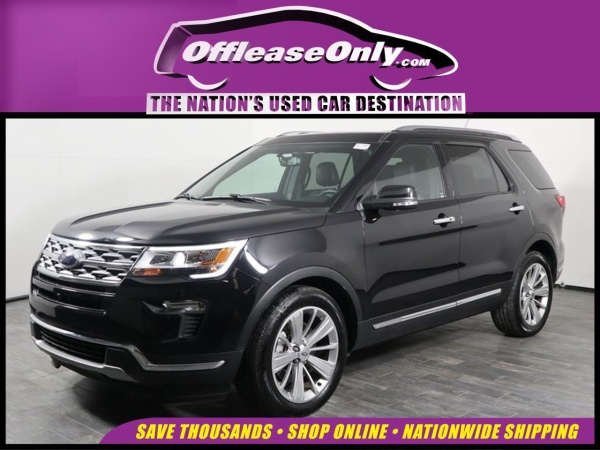Ford Explorer: (29, 127, 567, 416)
